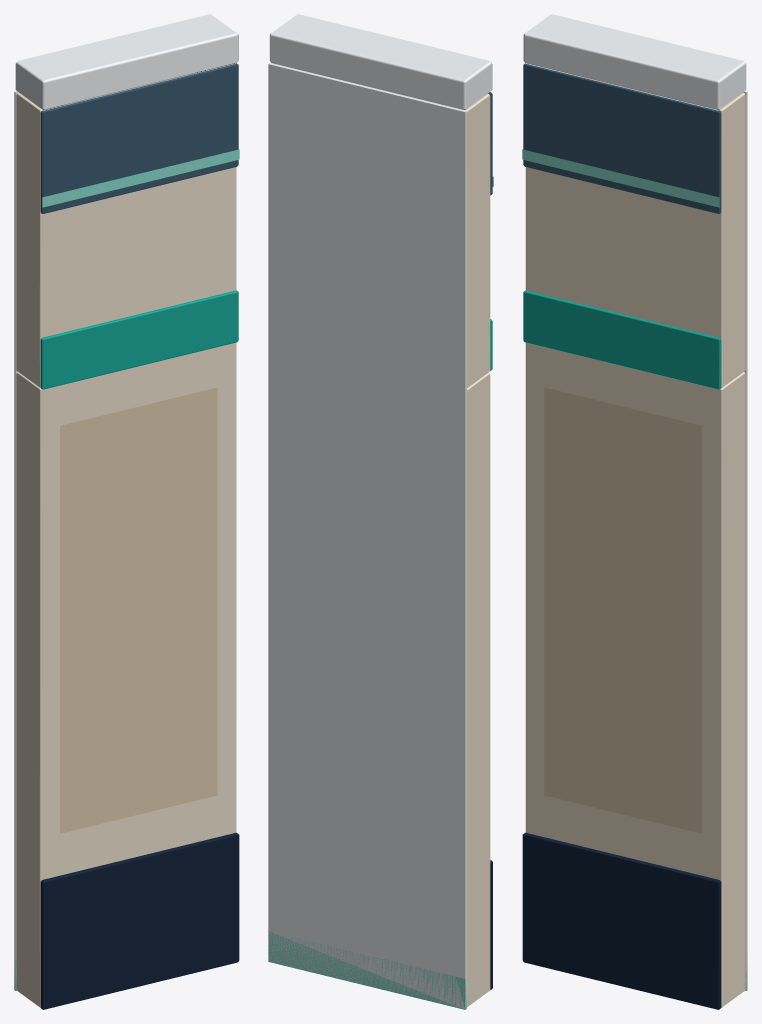
Rendered from CM_Shell_Wall_Solid.fbx.
3 views of the same model, side by side, from view 1: azimuth 30°, elevation 25°; view 2: azimuth 150°, elevation 25°; view 3: azimuth 330°, elevation 25° (orthographic).
Visible parts, largest first — view 1: Body; view 2: Body; view 3: Body.
Boxes of the visible parts, x1,y1,x2,y2 form: Body: (14,14,239,1009); Body: (268,14,493,1009); Body: (522,14,747,1009).
Bounding box in the file's own units: 4 × 1 × 18.
Materials: 1 (1 with a texture image).
